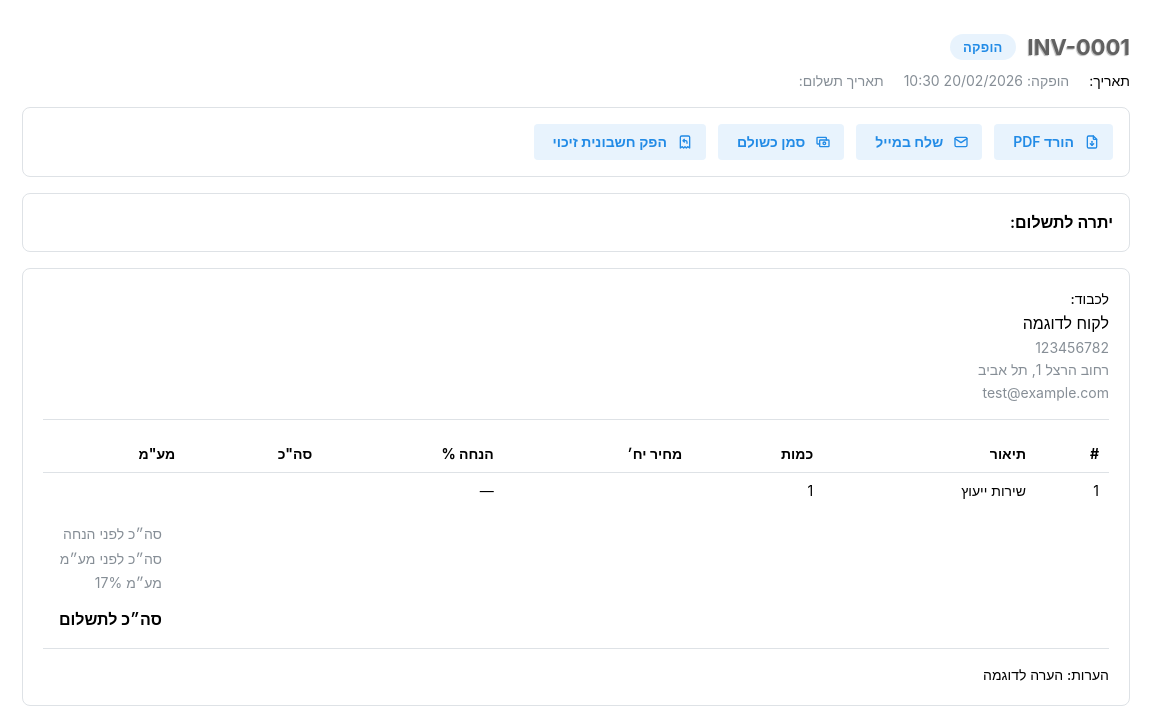
Test: InvoiceDetail › send email › opens send modal with prefilled email on click
What coordinates should you click on to do the following:
click the button "שלח במייל"
I would click on:
 (919, 142)
Its box is [856,124,982,160].
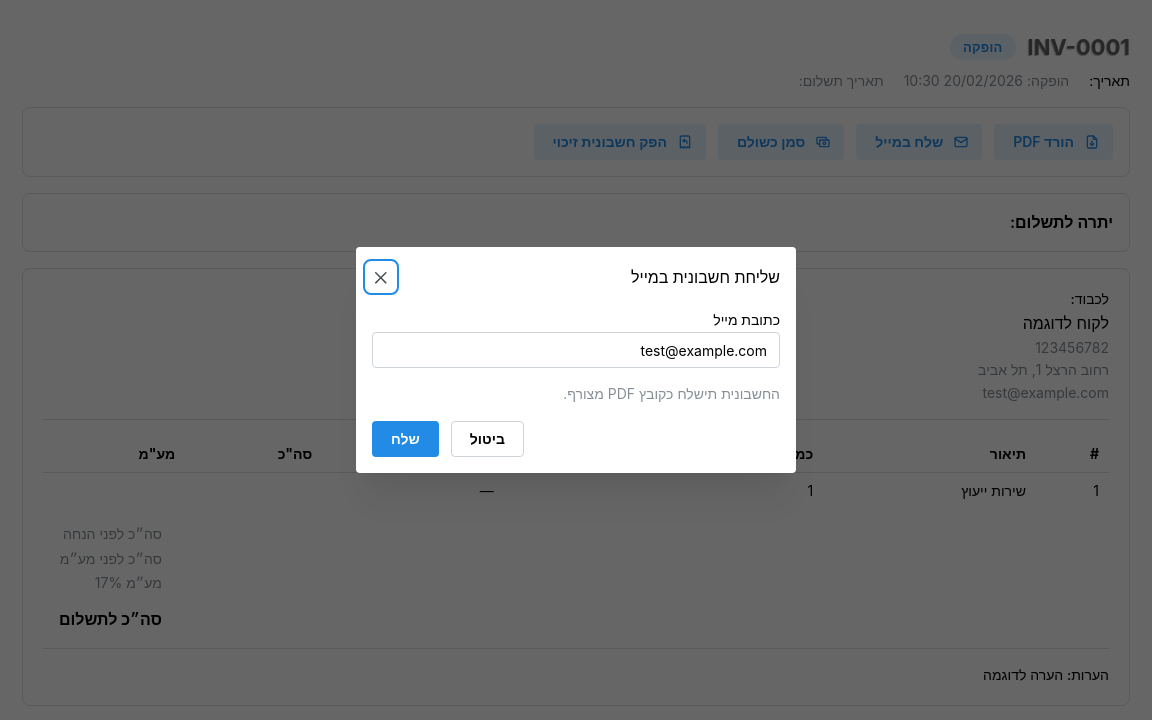
Check: the heading "שליחת חשבונית במייל" is shown, box [631,270,780,286]
Check: the field with test id "send-email-input" holds "test@example.com", box [372,332,780,368]
